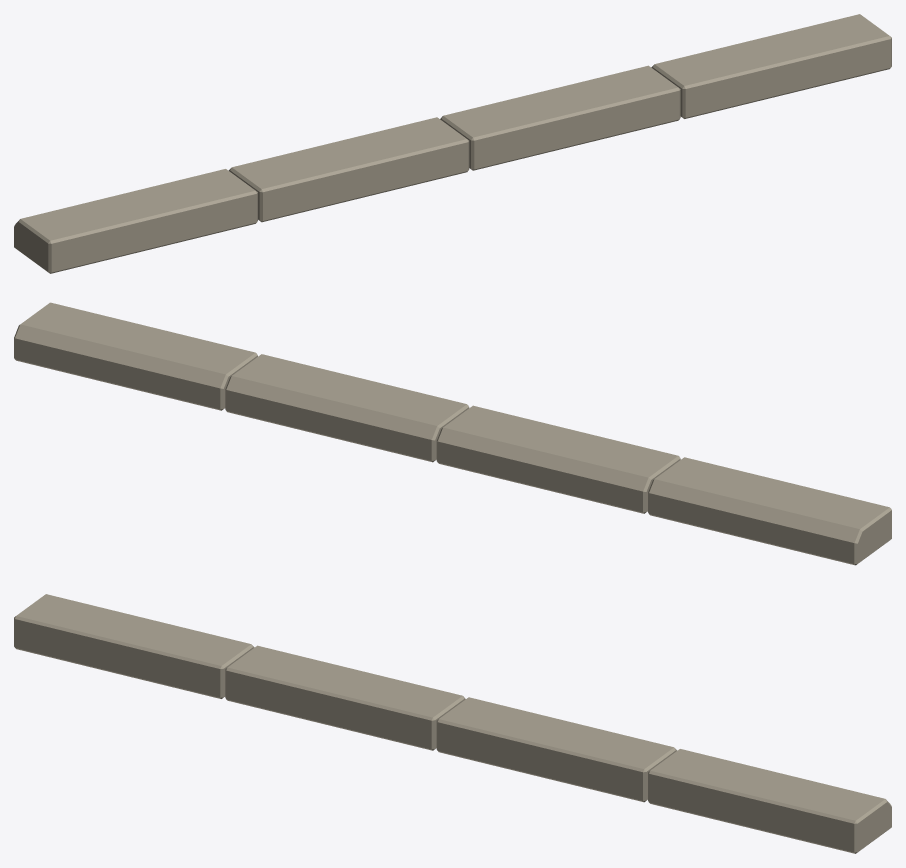
File: curb_straight.glb
The picture shows the model from 3 angles, top to bottom: view 1: azimuth 30°, elevation 25°; view 2: azimuth 150°, elevation 25°; view 3: azimuth 330°, elevation 25°; orthographic projection.
Visible parts, largest first — view 1: curb_straight; view 2: curb_straight; view 3: curb_straight.
Boxes of the visible parts, x1,y1,x2,y2 form: curb_straight: (14,14,891,273); curb_straight: (14,302,891,565); curb_straight: (14,594,891,853).
Bounding box in the file's own units: 3.99 × 0.15 × 0.3.
